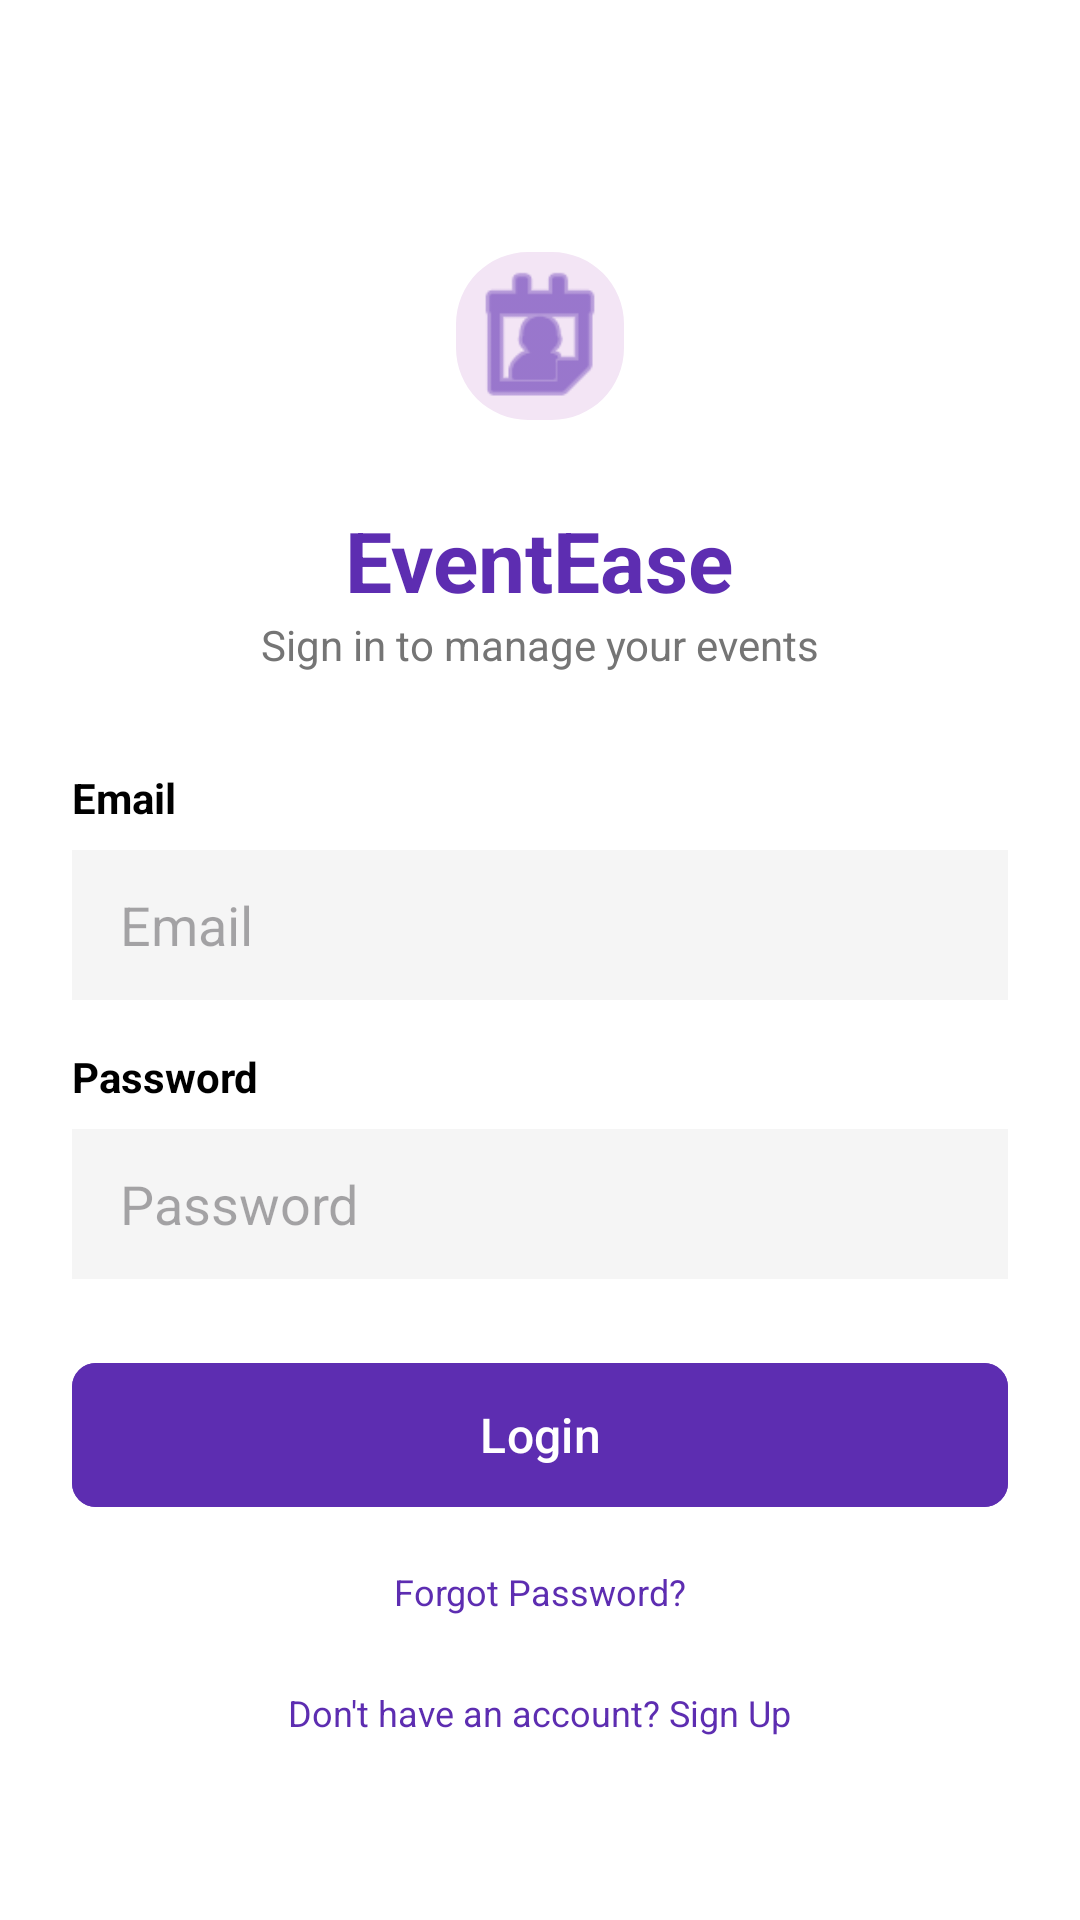

Where icons sit on this 1080*1920 app screen, as (x1, y1, x2, y2):
calendar: (456, 252, 624, 420)
